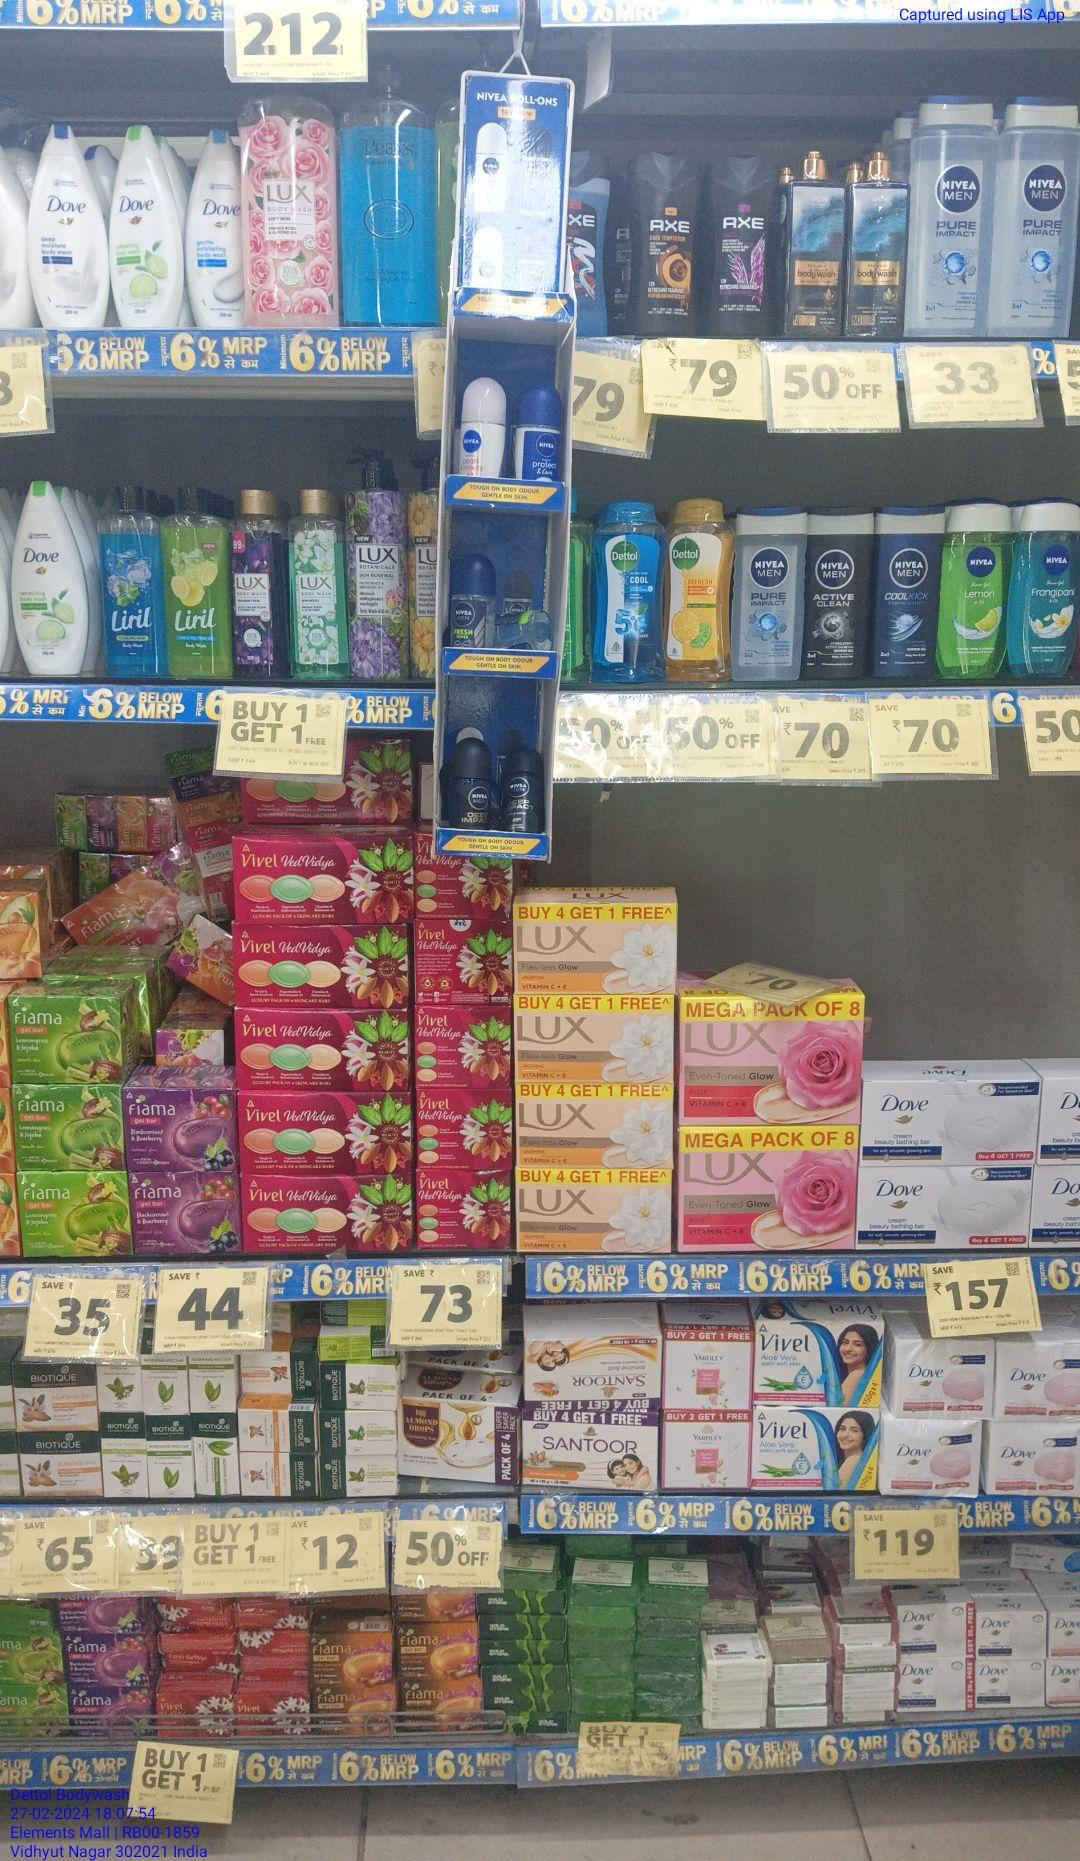Dettol_Bodywash_Cool: (598, 494, 663, 690)
Dettol_Bodywash_Refresh: (667, 494, 732, 686)
Dove_Deep_Moisture_Body_Wash_250ML: (31, 126, 102, 328)
Dove_Gentle_Exfoliating_Body_Wash_250ML: (189, 125, 249, 329)
Dove_Refreshing_Body_Wash_250ML: (111, 121, 185, 328), (14, 478, 87, 679)
Liril_Cooling_Mint_Body_Wash_250ML: (99, 483, 162, 680)
Liril_Lime_and_Tea_Tree_Oil_Body_Wash_250ML: (165, 486, 230, 685)
Lux_Black_Orchid_Scent_and_Juniper_Oil_Body_Wash_245ML: (231, 487, 287, 680)
Lux_Body_Wash_Skin_Detox_Freesia_Scent_and_Alove_Vera_245ML: (291, 485, 347, 684)
Nivea_Shower_Gel_Frangipani_and_Oil_250ML: (1014, 495, 1079, 680)
Nivea_Shower_Gel_Lemon_and_Oil_250ML: (944, 497, 1004, 677)
